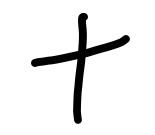plus: (29, 13, 128, 125)
